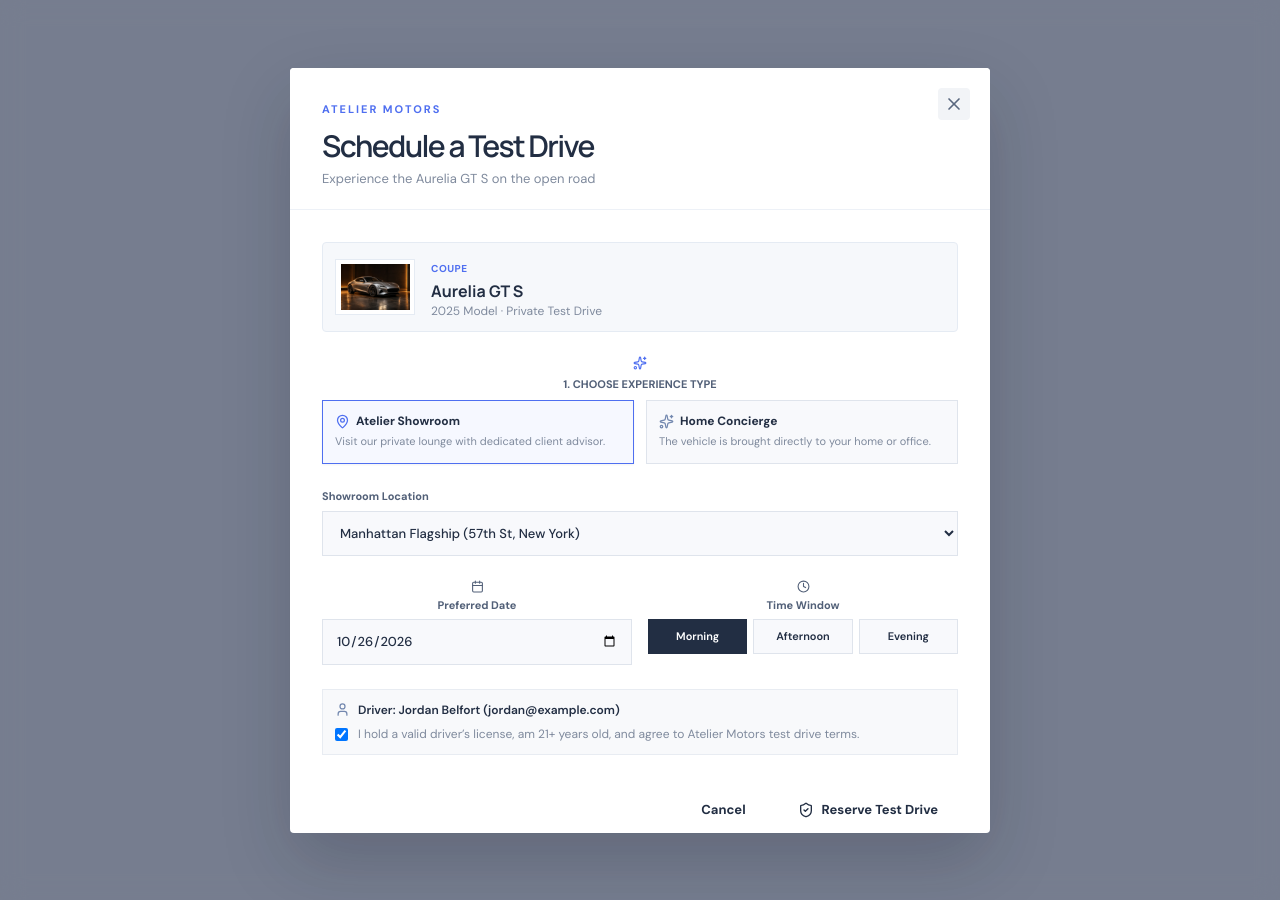
it: TestDriveModal › submits booking successfully and displays confirmation code and calendar download
Click the button "Afternoon" at (803, 636), box [753,619,853,654]
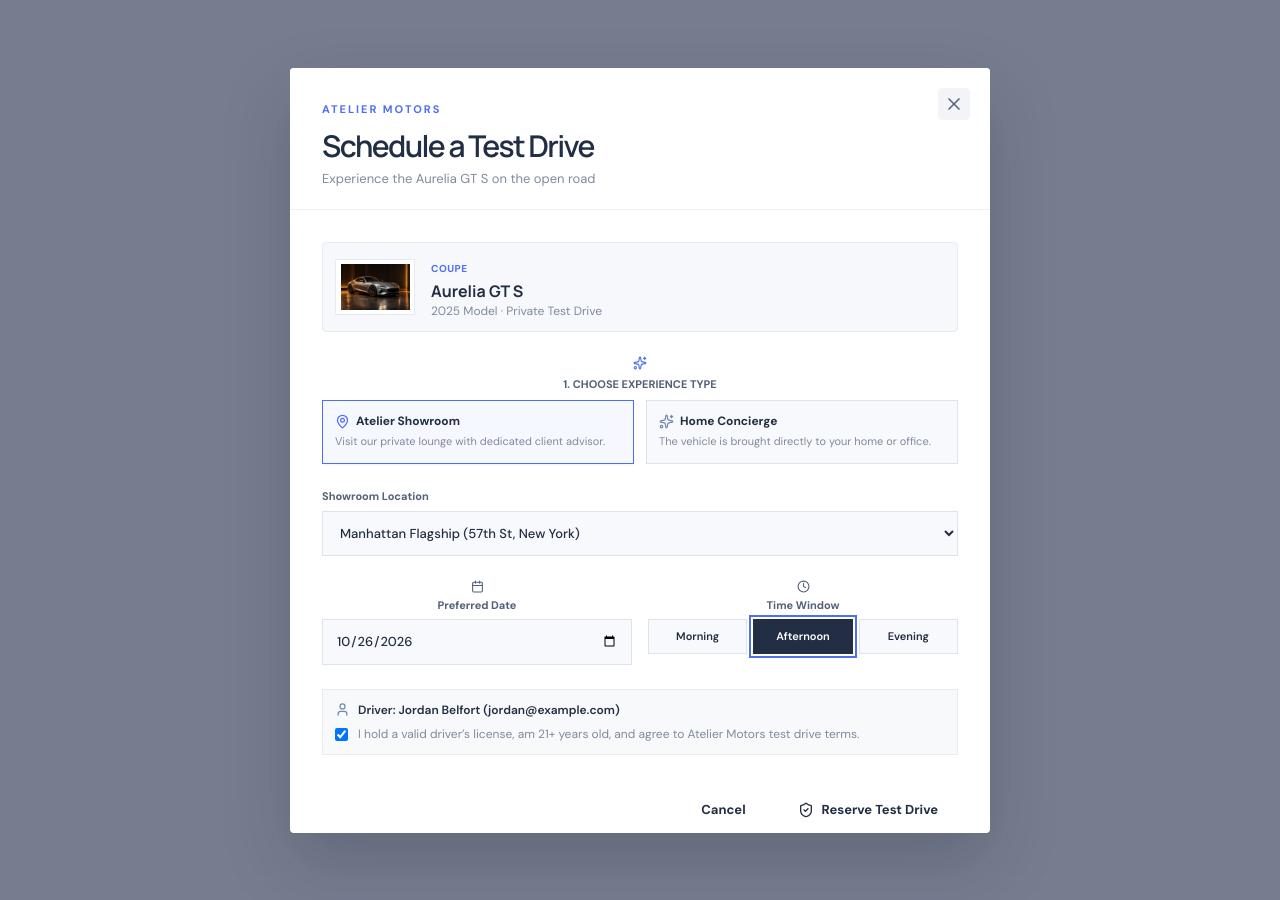
Click the button "Reserve Test Drive" at (868, 810), box [778,786,958,832]
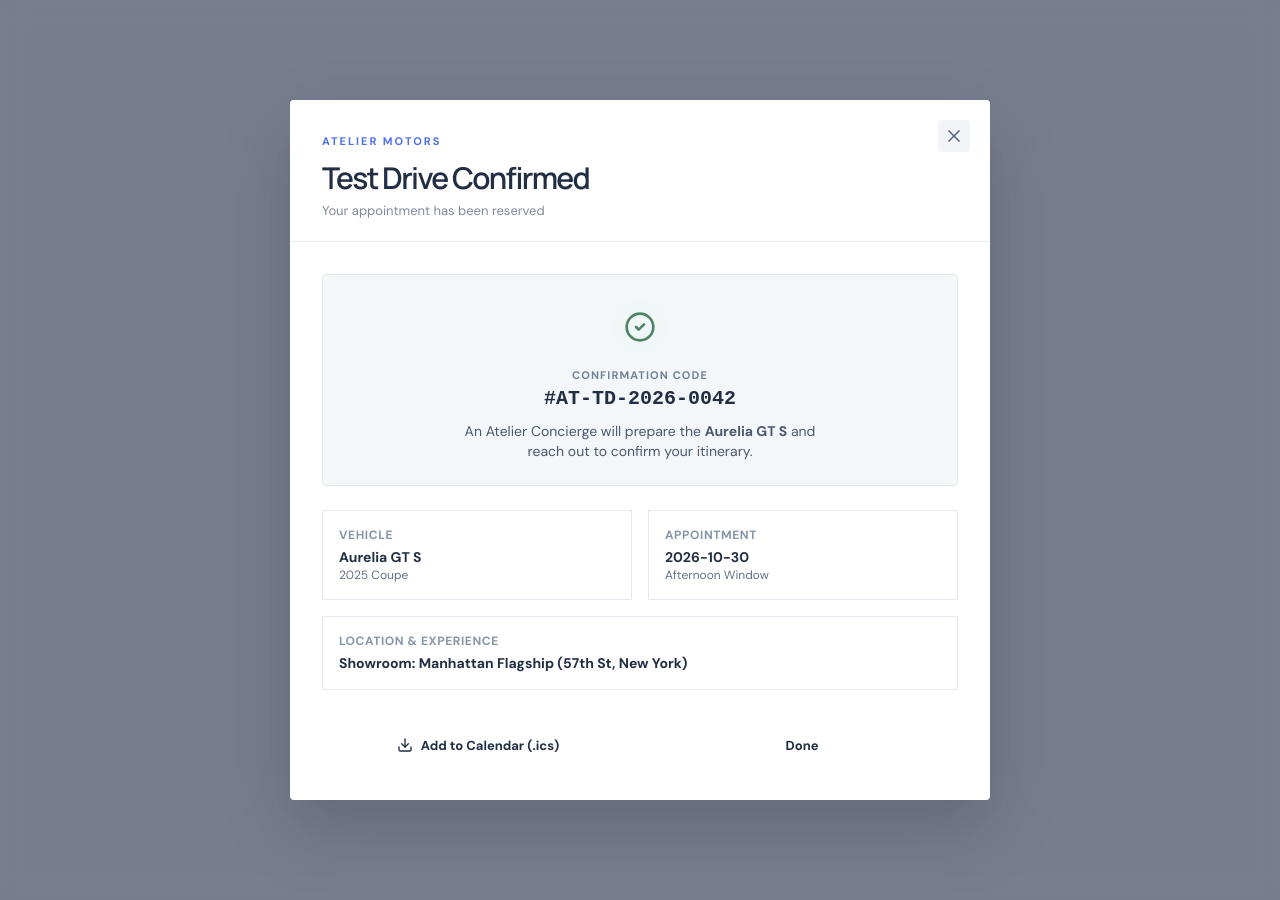
expect the heading "Test Drive Confirmed" is shown: met, box [322,157,589,198]
expect the text "#AT-TD-2026-0042" is shown: met, box [544,385,736,413]
expect the button "Add to Calendar (.ics)" is shown: met, box [322,722,634,768]
